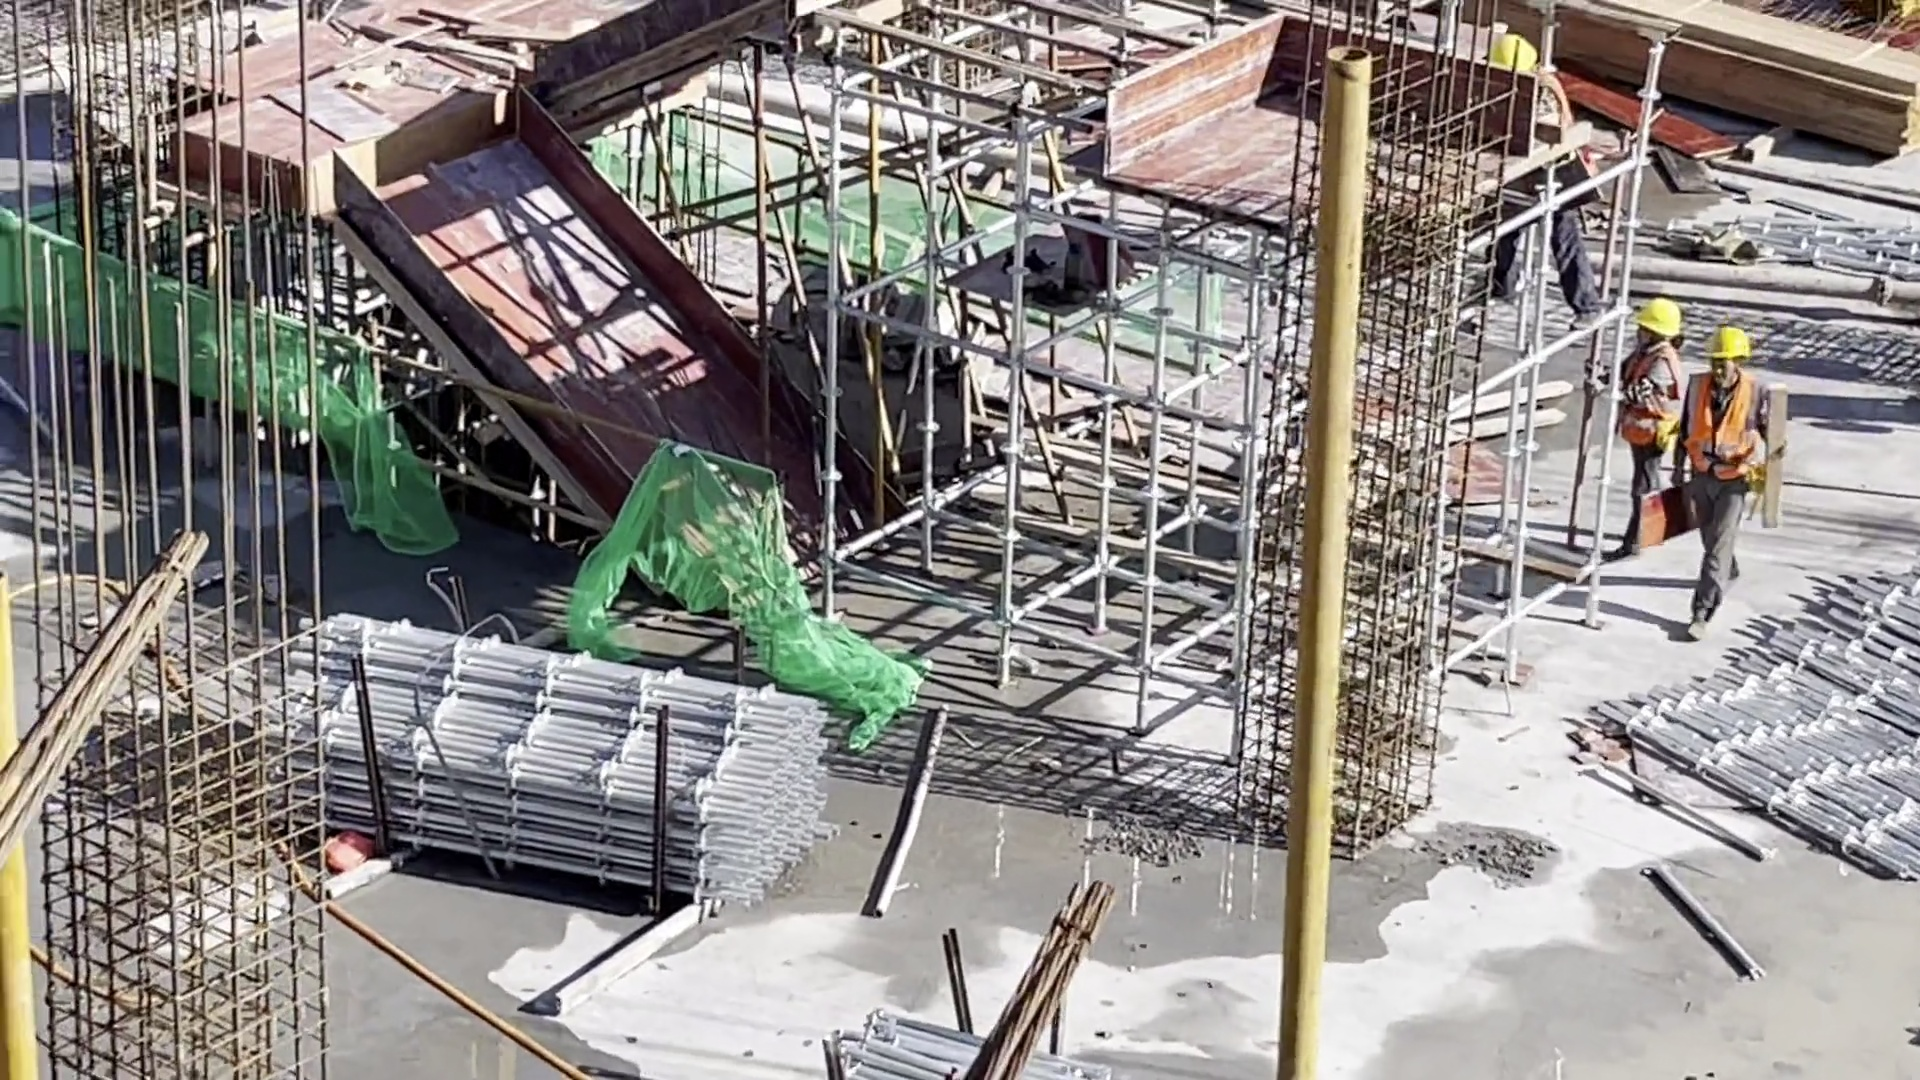helmet: (1631, 295, 1681, 340), (1699, 324, 1747, 365), (1494, 35, 1541, 71)
person: (1492, 39, 1607, 326), (1680, 326, 1774, 639), (1608, 293, 1686, 578)
scaffold: (267, 607, 844, 901), (1603, 570, 1920, 892)
vest: (1684, 373, 1773, 479), (1626, 342, 1681, 447)
wood: (1488, 3, 1920, 167)
